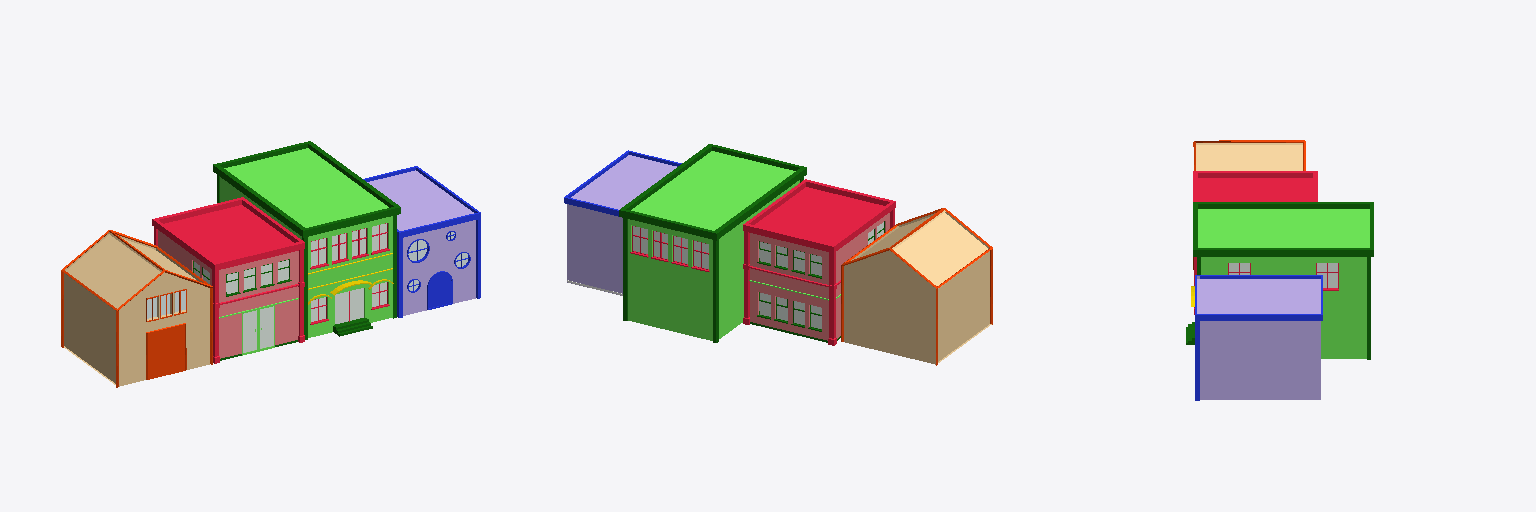
File: buildings_hepsi.obj
3 views of the same model, side by side, from view 1: azimuth 30°, elevation 25°; view 2: azimuth 150°, elevation 25°; view 3: azimuth 270°, elevation 25° (orthographic).
Parts seen in each view (by area): view 1: Cube.014_pinkkkk.001, Cube.022_Cube.029_Material.001, Cube_Cube.001_dfg, Cube.005_m_turuncu, Cube_Cube.001_dfgdf, Cube.022_Cube.029_rfgd, Cube.014_nerenk.001, Cube.005_m_koyupembe.002, Cube.022_Cube.029_window_glass, Cube_Cube.001_window_glass, Cube.022_Cube.029_dfg; view 2: Cube.014_pinkkkk.001, Cube.022_Cube.029_Material.001, Cube_Cube.001_dfg, Cube.005_m_turuncu, Cube_Cube.001_dfgdf, Cube.022_Cube.029_rfgd, Cube_Cube.001_window_glass, Cube.014_nerenk.001, Cube.022_Cube.029_window_glass, Cube.005_m_koyupembe.002, Cube_Cube.001_dg; view 3: Cube.005_m_turuncu, Cube.022_Cube.029_Material.001, Cube_Cube.001_dfg, Cube.022_Cube.029_rfgd, Cube.014_pinkkkk.001, Cube.005_m_koyupembe.002, Cube.022_Cube.029_window_glass.
Boxes of the visible parts, <box> form: Cube.014_pinkkkk.001: <box>64,232,209,386</box>; Cube.022_Cube.029_Material.001: <box>220,148,392,337</box>; Cube_Cube.001_dfg: <box>152,197,304,363</box>; Cube.005_m_turuncu: <box>367,170,475,315</box>; Cube_Cube.001_dfgdf: <box>158,230,298,358</box>; Cube.022_Cube.029_rfgd: <box>213,141,400,339</box>; Cube.014_nerenk.001: <box>61,230,212,387</box>; Cube.005_m_koyupembe.002: <box>363,166,480,317</box>; Cube.022_Cube.029_window_glass: <box>311,223,386,323</box>; Cube_Cube.001_window_glass: <box>194,260,288,352</box>; Cube.022_Cube.029_dfg: <box>310,223,389,324</box>; Cube.014_pinkkkk.001: <box>844,210,991,364</box>; Cube.022_Cube.029_Material.001: <box>628,151,799,340</box>; Cube_Cube.001_dfg: <box>743,179,895,345</box>; Cube.005_m_turuncu: <box>567,155,676,295</box>; Cube_Cube.001_dfgdf: <box>750,213,889,340</box>; Cube.022_Cube.029_rfgd: <box>619,144,806,342</box>; Cube_Cube.001_window_glass: <box>759,222,883,328</box>; Cube.014_nerenk.001: <box>841,208,992,365</box>; Cube.022_Cube.029_window_glass: <box>633,226,708,268</box>; Cube.005_m_koyupembe.002: <box>564,150,681,216</box>; Cube_Cube.001_dg: <box>750,221,884,342</box>; Cube.005_m_turuncu: <box>1197,276,1320,399</box>; Cube.022_Cube.029_Material.001: <box>1198,209,1369,358</box>; Cube_Cube.001_dfg: <box>1193,171,1317,314</box>; Cube.022_Cube.029_rfgd: <box>1193,202,1373,359</box>; Cube.014_pinkkkk.001: <box>1196,143,1302,170</box>; Cube.005_m_koyupembe.002: <box>1195,275,1322,400</box>; Cube.022_Cube.029_window_glass: <box>1229,263,1337,287</box>.
Bounding box in the file's own units: 613 × 179 × 275.